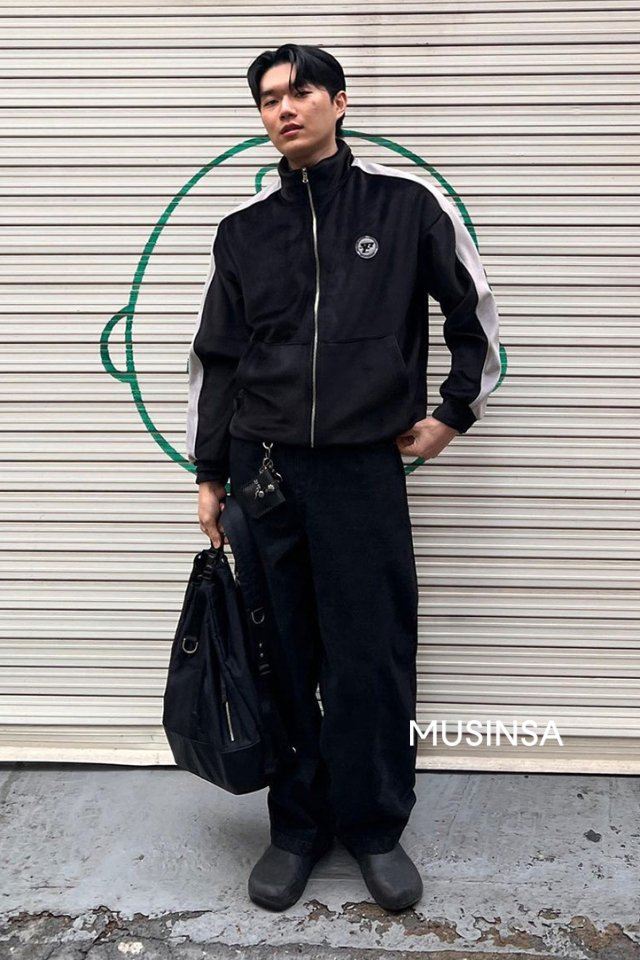Accessories: (235, 439, 292, 522)
Bag: (148, 522, 296, 800)
Outer: (175, 157, 518, 454)
Pants: (238, 439, 421, 855)
Shoes: (230, 825, 440, 916)
